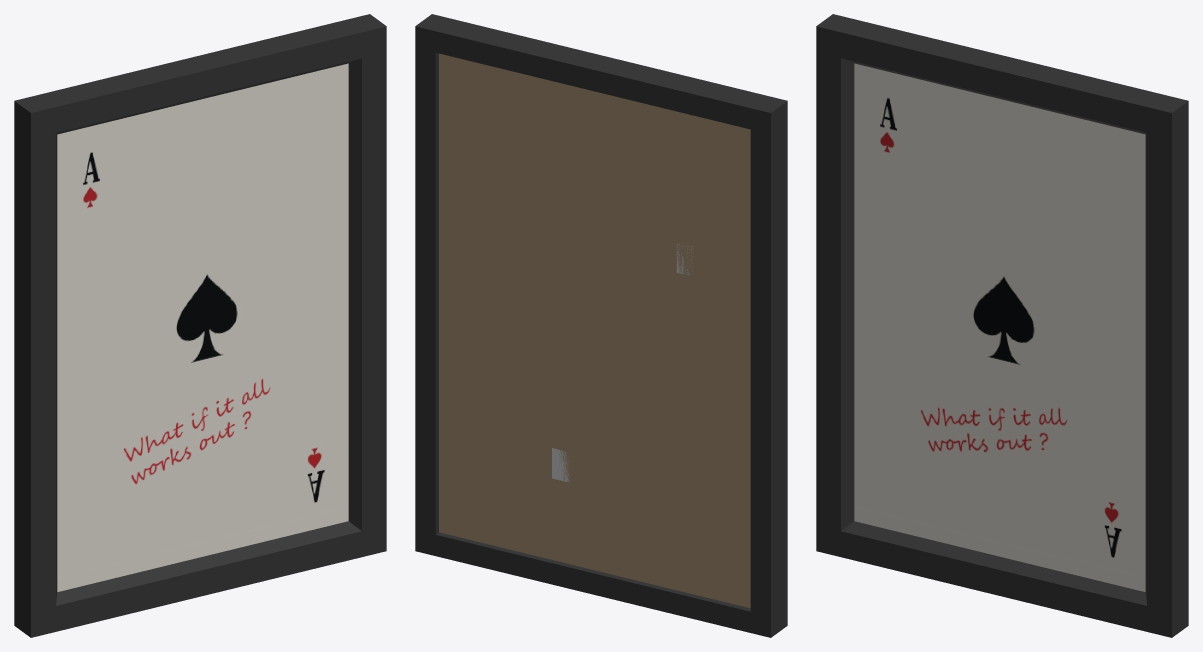
File: what-if-20x30.glb
3 views of the same model, side by side, from view 1: azimuth 30°, elevation 25°; view 2: azimuth 150°, elevation 25°; view 3: azimuth 330°, elevation 25° (orthographic).
Visible parts, largest first — view 1: LAWHA 20x30; view 2: LAWHA 20x30; view 3: LAWHA 20x30.
Part boxes in pixels (<box>): LAWHA 20x30: <box>14,14,386,637</box>; LAWHA 20x30: <box>415,14,787,637</box>; LAWHA 20x30: <box>816,14,1188,637</box>.
Size of the model in its own units: 0.244 by 0.344 by 0.02.
Materials: 4 (1 with a texture image).
